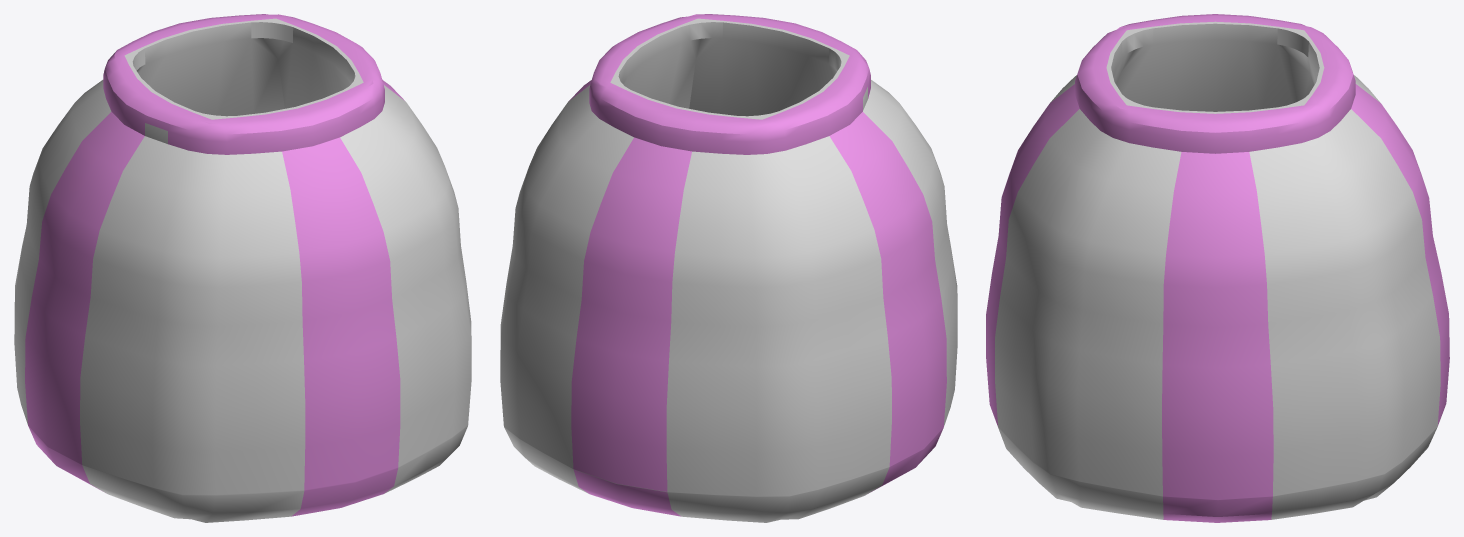
File: Prefab_SugarEmpty_Lily.fbx
The picture shows the model from 3 angles, left to right: view 1: azimuth 30°, elevation 25°; view 2: azimuth 150°, elevation 25°; view 3: azimuth 270°, elevation 25°; orthographic projection.
Visible parts, largest first — view 1: Cube; view 2: Cube; view 3: Cube.
Part boxes in pixels (left/top/right/bottom): Cube: left=14, top=14, right=471, bottom=522; Cube: left=500, top=14, right=957, bottom=522; Cube: left=986, top=14, right=1449, bottom=522.
Size of the model in its own units: 10 by 9 by 10.
